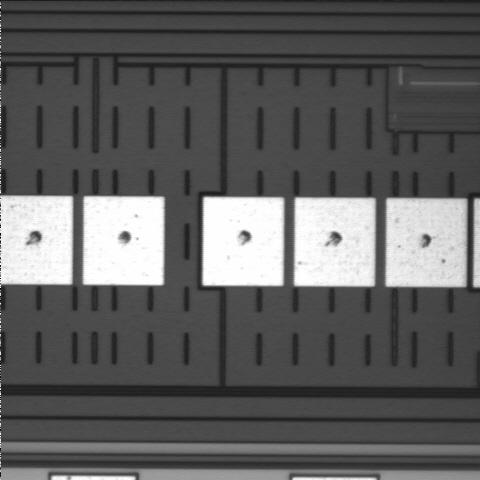pad: (83, 196, 164, 285), (203, 197, 284, 286), (294, 198, 375, 286), (386, 198, 466, 287)
